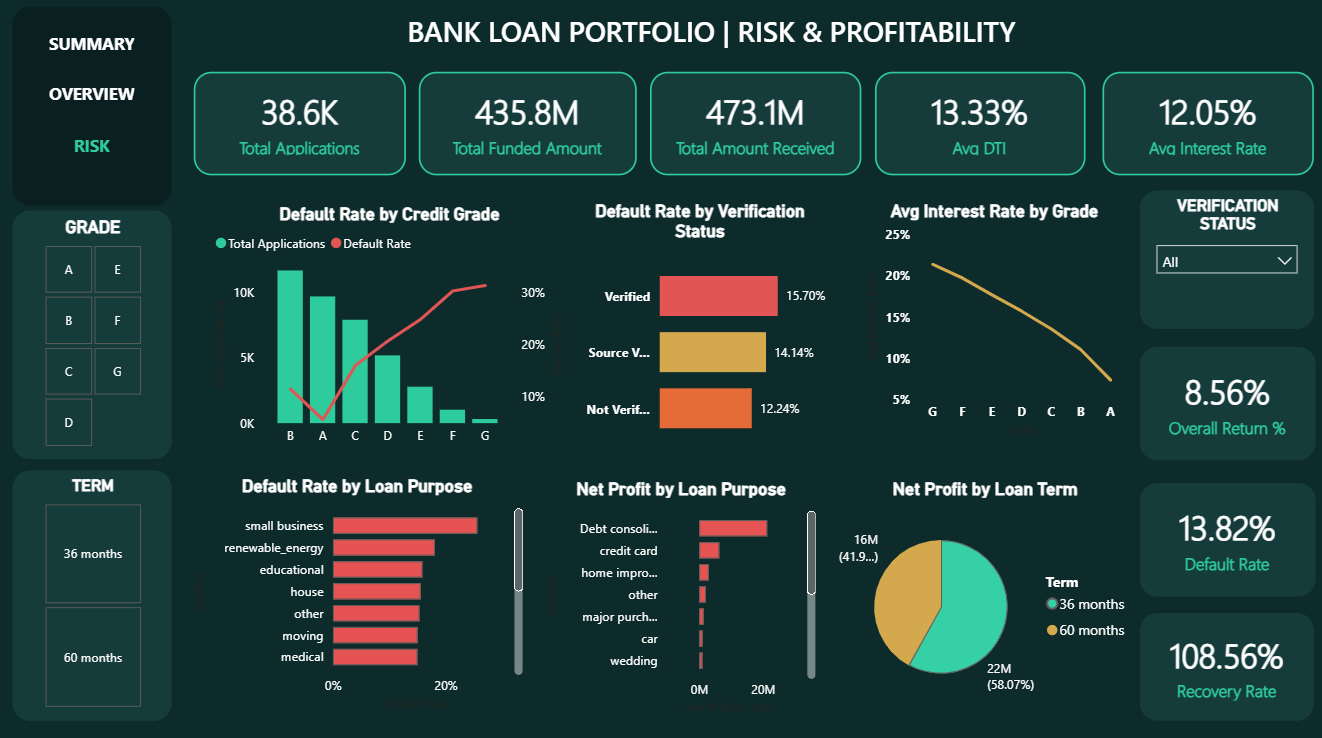

The page's visual inventory and layout, read from the dashboard file:
{"tool":"powerbi","page":{"name":"RISK","canvas":[1280,720],"ordinal":2},"visuals":[{"type":"cardVisual","fields":{"Data":["loan_data_cleaned2.Total Amount Received"]},"box":[627.1,71.4,204.3,100],"z":0},{"type":"cardVisual","fields":{"Data":["loan_data_cleaned2.Total Applications"]},"box":[187.1,71.4,205,100],"z":1000},{"type":"cardVisual","fields":{"Data":["loan_data_cleaned2.Total Funded Amount"]},"box":[404.3,71.4,210,100],"z":2000},{"type":"cardVisual","fields":{"Data":["loan_data_cleaned2.Avg Interest Rate"]},"box":[1064.3,71.4,204.3,100],"z":3000},{"type":"cardVisual","fields":{"Data":["loan_data_cleaned2.Avg DTI"]},"box":[844.3,71.4,202.9,100],"z":4000},{"type":"textbox","box":[325.3,8,721.3,45.3],"z":5000},{"type":"shape","box":[12.1,8.4,153.2,191.8],"z":6000},{"type":"actionButton","box":[38.8,22.5,100,40],"z":7000},{"type":"actionButton","box":[38.8,71.2,100,40],"z":8000},{"type":"actionButton","box":[38.8,121.2,100,40],"z":9000},{"type":"slicer","title":"GRADE","fields":{"Values":["loan_data_cleaned2.grade"]},"box":[12.5,205,153.8,240],"z":10000},{"type":"slicer","title":"VERIFICATION STATUS","fields":{"Values":["loan_data_cleaned2.verification_status"]},"box":[1100,185.3,168,133.3],"z":11000},{"type":"clusteredBarChart","title":"Default Rate by Verification Status ","fields":{"Y":["loan_data_cleaned2.Default Rate"],"Category":["loan_data_cleaned2.verification_status"]},"box":[549.3,196,253.3,249.3],"z":12000},{"type":"slicer","title":"TERM","fields":{"Values":["loan_data_cleaned2.term"]},"box":[12.5,456.2,153.8,241.2],"z":13000},{"type":"lineStackedColumnComboChart","title":"Default Rate by Credit Grade","fields":{"Category":["loan_data_cleaned2.grade"],"Y":["loan_data_cleaned2.Total Applications"],"Y2":["loan_data_cleaned2.Default Rate"]},"box":[202.7,197.3,346.7,242.7],"z":14000},{"type":"cardVisual","fields":{"Data":["loan_data_cleaned2.Recovery Rate"]},"box":[1100,593.3,168,104],"z":15000},{"type":"cardVisual","fields":{"Data":["loan_data_cleaned2.Overall Return %"]},"box":[1100,336,169.3,109.3],"z":16000},{"type":"lineChart","title":"Avg Interest Rate by Grade","fields":{"Category":["loan_data_cleaned2.grade"],"Y":["loan_data_cleaned2.Avg Interest Rate"]},"box":[830.7,196,257.3,232],"z":17000},{"type":"cardVisual","fields":{"Data":["loan_data_cleaned2.Default Rate"]},"box":[1100,468,169.3,109.3],"z":18000},{"type":"clusteredBarChart","title":"Default Rate by Loan Purpose","fields":{"Category":["loan_data_cleaned2.purpose"],"Y":["loan_data_cleaned2.Default Rate"]},"box":[180,461.4,330,231.4],"z":19000},{"type":"clusteredBarChart","title":"Net Profit by Loan Purpose","fields":{"Category":["loan_data_cleaned2.purpose"],"Y":["loan_data_cleaned2.Net Portfolio Return"]},"box":[522.9,462.9,270,232.9],"z":20000},{"type":"pieChart","title":"Net Profit by Loan Term","fields":{"Category":["loan_data_cleaned2.term"],"Y":["loan_data_cleaned2.Net Profit or Loss"]},"box":[802.9,462.9,297.1,230],"z":21000}]}

Visuals, with their boxes in screenshot pixels (x1, y1, x2, y2), scaled from the page's 1280x720 canvas onto the 1322x738 screenshot:
cardVisual - loan_data_cleaned2.Total Amount Received: select_region(648, 73, 859, 176)
cardVisual - loan_data_cleaned2.Total Applications: select_region(193, 73, 405, 176)
cardVisual - loan_data_cleaned2.Total Funded Amount: select_region(418, 73, 634, 176)
cardVisual - loan_data_cleaned2.Avg Interest Rate: select_region(1099, 73, 1310, 176)
cardVisual - loan_data_cleaned2.Avg DTI: select_region(872, 73, 1082, 176)
textbox: select_region(336, 8, 1081, 55)
shape: select_region(12, 9, 171, 205)
actionButton: select_region(40, 23, 143, 64)
actionButton: select_region(40, 73, 143, 114)
actionButton: select_region(40, 124, 143, 165)
"GRADE" slicer: select_region(13, 210, 172, 456)
"VERIFICATION STATUS" slicer: select_region(1136, 190, 1310, 327)
"Default Rate by Verification Status " clusteredBarChart: select_region(567, 201, 829, 456)
"TERM" slicer: select_region(13, 468, 172, 715)
"Default Rate by Credit Grade" lineStackedColumnComboChart: select_region(209, 202, 567, 451)
cardVisual - loan_data_cleaned2.Recovery Rate: select_region(1136, 608, 1310, 715)
cardVisual - loan_data_cleaned2.Overall Return %: select_region(1136, 344, 1311, 456)
"Avg Interest Rate by Grade" lineChart: select_region(858, 201, 1124, 439)
cardVisual - loan_data_cleaned2.Default Rate: select_region(1136, 480, 1311, 592)
"Default Rate by Loan Purpose" clusteredBarChart: select_region(186, 473, 527, 710)
"Net Profit by Loan Purpose" clusteredBarChart: select_region(540, 474, 819, 713)
"Net Profit by Loan Term" pieChart: select_region(829, 474, 1136, 710)
